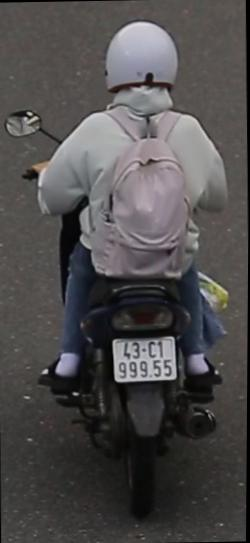LP: (109, 330, 179, 386)
helmet: (99, 17, 181, 114)
